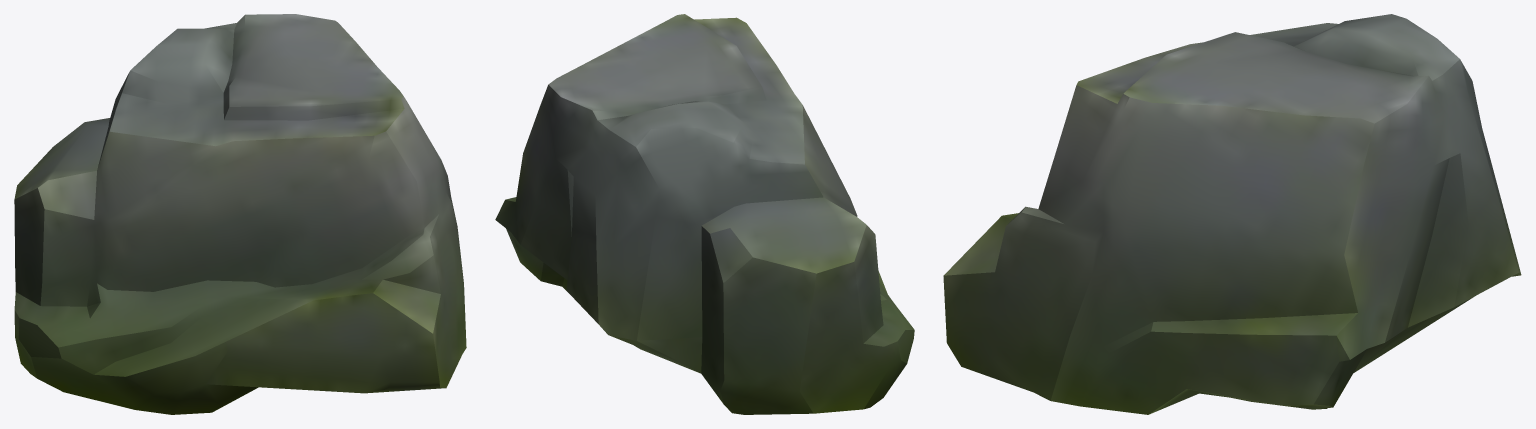
File: sn_rock_medium_3.glb
The picture shows the model from 3 angles, left to right: view 1: azimuth 30°, elevation 25°; view 2: azimuth 150°, elevation 25°; view 3: azimuth 270°, elevation 25°; orthographic projection. The views are drawn at different scales.
Visible parts, largest first — view 1: Rock_Medium_3; view 2: Rock_Medium_3; view 3: Rock_Medium_3.
Boxes of the visible parts, box(x1,y1,x2,y2) form: Rock_Medium_3: box(14, 14, 466, 414); Rock_Medium_3: box(495, 14, 914, 414); Rock_Medium_3: box(943, 14, 1521, 414).
Size of the model in its own units: 3.42 by 2.32 by 3.48.
1 material, 1 textured.
